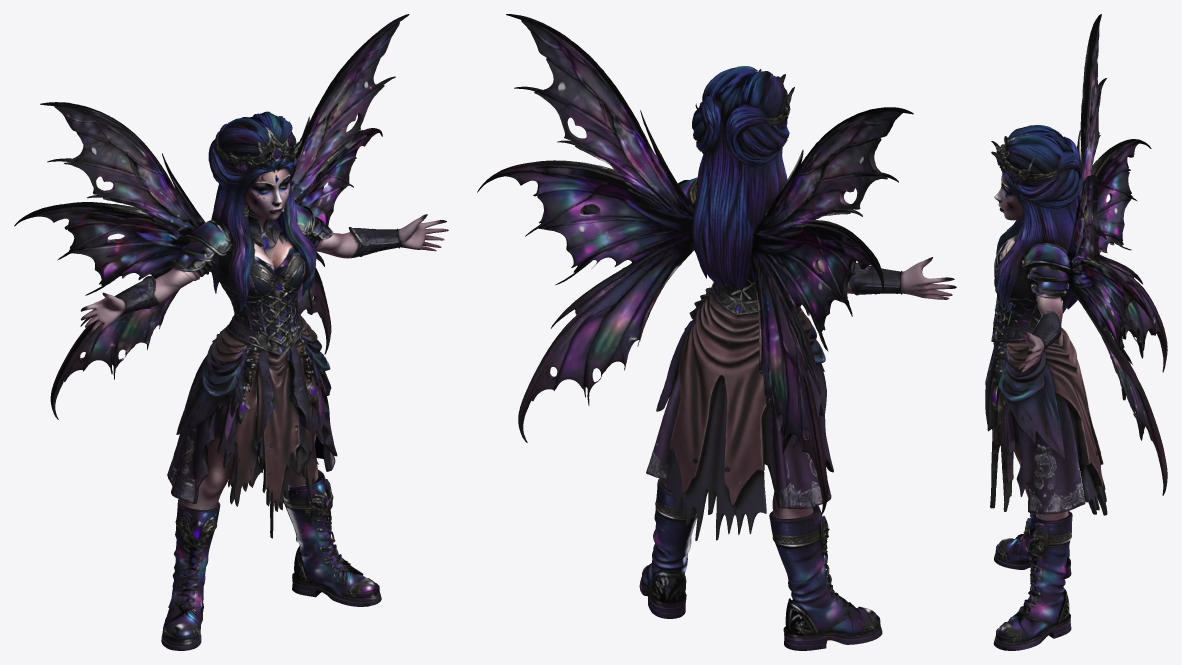
Rendered from dark-fairy-boss_v7.glb.
The picture shows the model from 3 angles, left to right: view 1: azimuth 30°, elevation 25°; view 2: azimuth 150°, elevation 25°; view 3: azimuth 270°, elevation 25°; orthographic projection. The views are drawn at different scales.
Parts seen in each view (by area): view 1: tmpak4408p7.obj; view 2: tmpak4408p7.obj; view 3: tmpak4408p7.obj.
Part boxes in pixels (x1,y1,x2,y2): tmpak4408p7.obj: (14, 14, 448, 650); tmpak4408p7.obj: (477, 14, 956, 650); tmpak4408p7.obj: (985, 14, 1167, 650).
Bounding box in the file's own units: 1.22 × 1.66 × 0.5468.
Materials: 1 (1 with a texture image).
